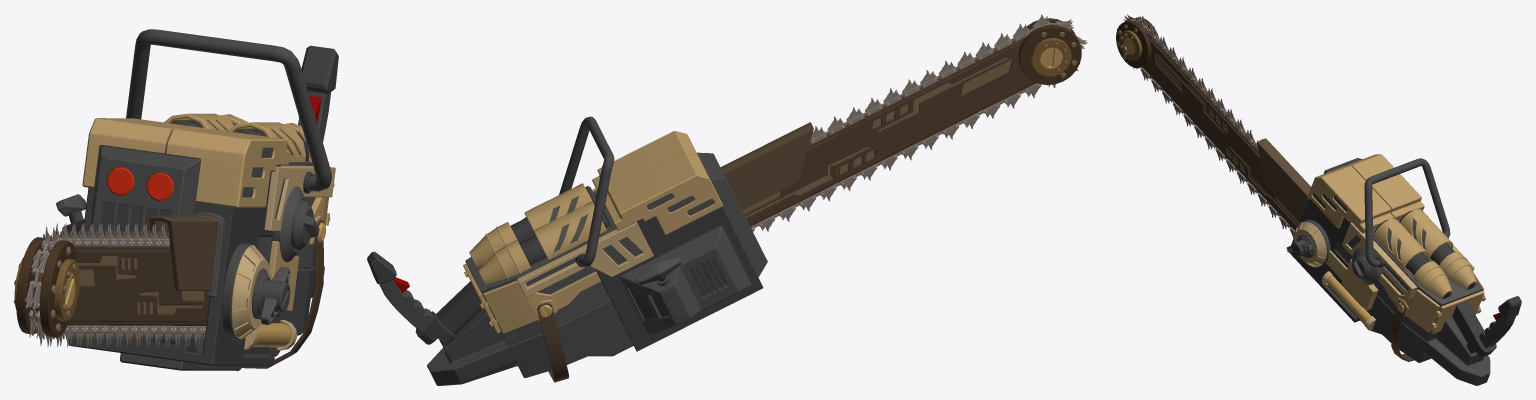
Rendered from Chainsaw.fbx.
3 views of the same model, side by side, from view 1: azimuth 30°, elevation 25°; view 2: azimuth 150°, elevation 25°; view 3: azimuth 270°, elevation 25° (orthographic). The views are drawn at different scales.
Visible parts, largest first — view 1: pCube3, pCube1, pCube5, pCube4, pCylinder20, pCube23, pCube9, pCylinder22, pCube14, pCylinder1, pCube11, pCylinder33 (+18 smaller); view 2: pCube1, pCube9, pCube3, pCube20, pCube5, pCube23, pCube18, polySurface1, pCube19, pCylinder20, pCube4, pCylinder5 (+10 smaller); view 3: pCube3, pCube1, pCube9, pCube23, pCube5, pCylinder20, polySurface1, pCylinder2, pCube14, pCube17, pCylinder5, pCube12 (+14 smaller).
Boxes of the visible parts, left/top/right/bottom form: pCube3: left=82, top=118, right=290, bottom=207; pCube1: left=30, top=246, right=209, bottom=325; pCube5: left=68, top=144, right=280, bottom=365; pCube4: left=90, top=146, right=200, bottom=344; pCylinder20: left=126, top=29, right=331, bottom=191; pCube23: left=149, top=212, right=225, bottom=296; pCube9: left=120, top=266, right=324, bottom=370; pCylinder22: left=231, top=245, right=270, bottom=339; pCube14: left=264, top=165, right=335, bottom=231; pCylinder1: left=39, top=240, right=77, bottom=337; pCube11: left=301, top=45, right=338, bottom=93; pCylinder33: left=242, top=219, right=324, bottom=368; pCube1: left=742, top=37, right=1036, bottom=226; pCube9: left=427, top=299, right=633, bottom=385; pCube3: left=592, top=131, right=722, bottom=234; pCube20: left=620, top=225, right=751, bottom=335; pCube5: left=595, top=206, right=763, bottom=351; pCube23: left=720, top=122, right=813, bottom=210; pCube18: left=517, top=222, right=653, bottom=297; polySurface1: left=465, top=190, right=616, bottom=346; pCube19: left=483, top=271, right=601, bottom=333; pCylinder20: left=559, top=116, right=614, bottom=267; pCube4: left=697, top=152, right=767, bottom=277; pCylinder5: left=533, top=201, right=606, bottom=259; pCube3: left=1308, top=154, right=1424, bottom=233; pCube1: left=1142, top=29, right=1299, bottom=231; pCube9: left=1358, top=295, right=1490, bottom=385; pCube23: left=1257, top=138, right=1310, bottom=223; pCube5: left=1289, top=198, right=1361, bottom=322; pCylinder20: left=1364, top=158, right=1450, bottom=267; polySurface1: left=1373, top=219, right=1483, bottom=341; pCylinder2: left=1373, top=218, right=1428, bottom=268; pCube14: left=1342, top=222, right=1417, bottom=299; pCube17: left=1378, top=274, right=1440, bottom=332; pCylinder5: left=1400, top=209, right=1452, bottom=258; pCube12: left=1452, top=301, right=1496, bottom=356.
Bounding box in the file's own units: 7.55 × 4.67 × 7.53.
